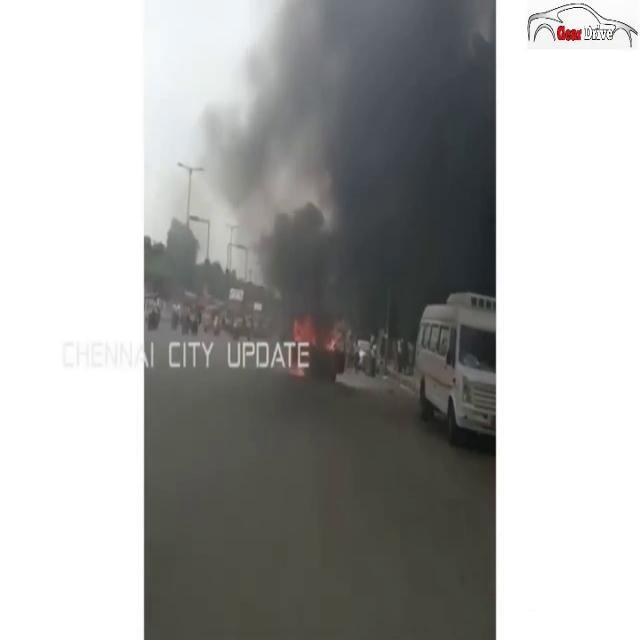Smoke: (215, 0, 495, 333)
